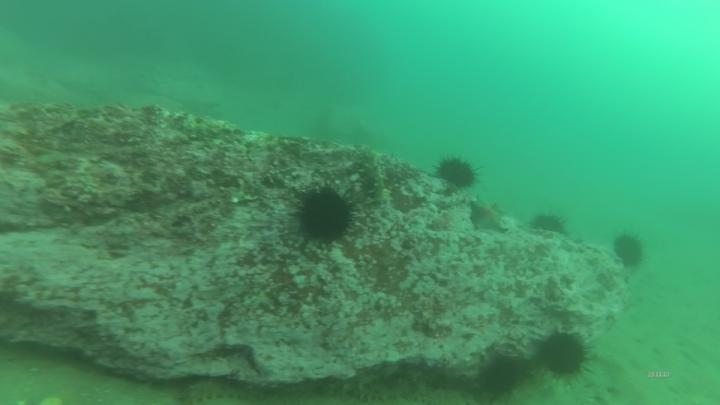echinus: (280, 180, 364, 256), (528, 325, 601, 389), (468, 343, 532, 403), (429, 153, 485, 193), (609, 230, 648, 271), (528, 208, 571, 241)
holothurian: (312, 363, 403, 401), (180, 375, 263, 405), (357, 148, 394, 209)
starfish: (468, 199, 509, 234)
